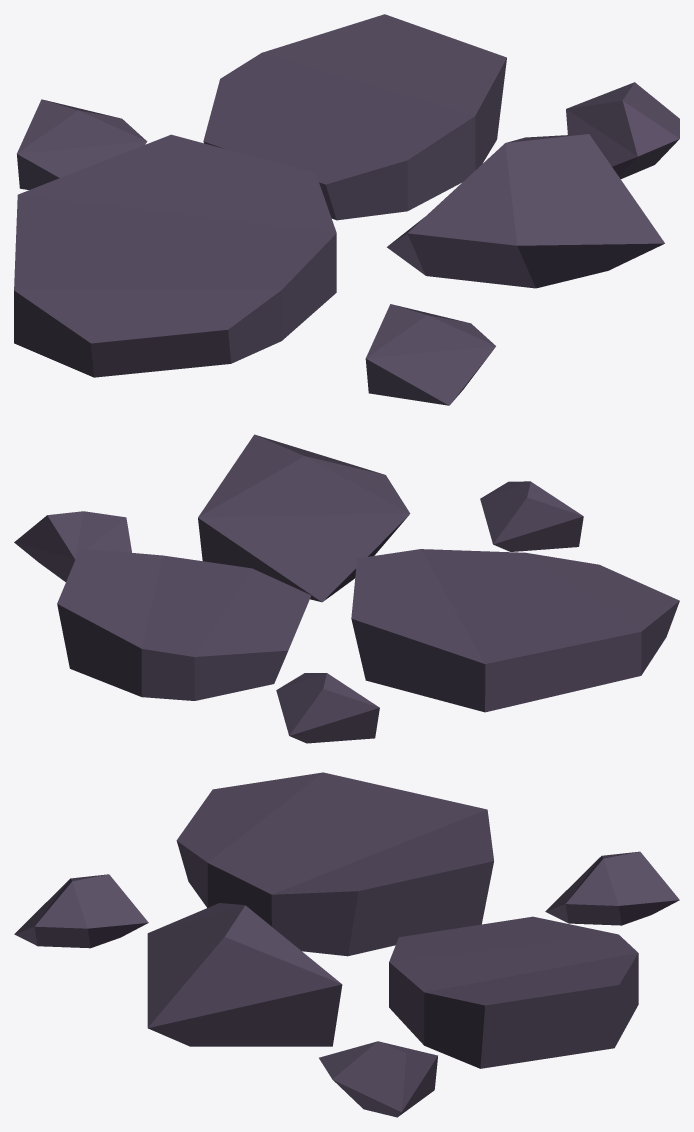
The model's file is SM_rock_cluster_02.fbx.
The picture shows the model from 3 angles, top to bottom: view 1: azimuth 30°, elevation 25°; view 2: azimuth 150°, elevation 25°; view 3: azimuth 270°, elevation 25°; orthographic projection. The views are drawn at different scales.
Visible parts, largest first — view 1: rock_cluster_02; view 2: rock_cluster_02; view 3: rock_cluster_02.
Part boxes in pixels (<box>): rock_cluster_02: <box>14,14,679,405</box>; rock_cluster_02: <box>14,434,679,743</box>; rock_cluster_02: <box>14,772,679,1117</box>.
Size of the model in its own units: 152 by 25.16 by 138.
